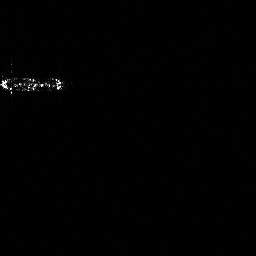ship: (1, 63, 64, 95)
